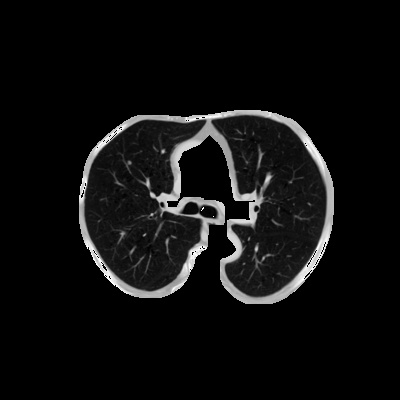PN: (127, 160, 131, 164)
